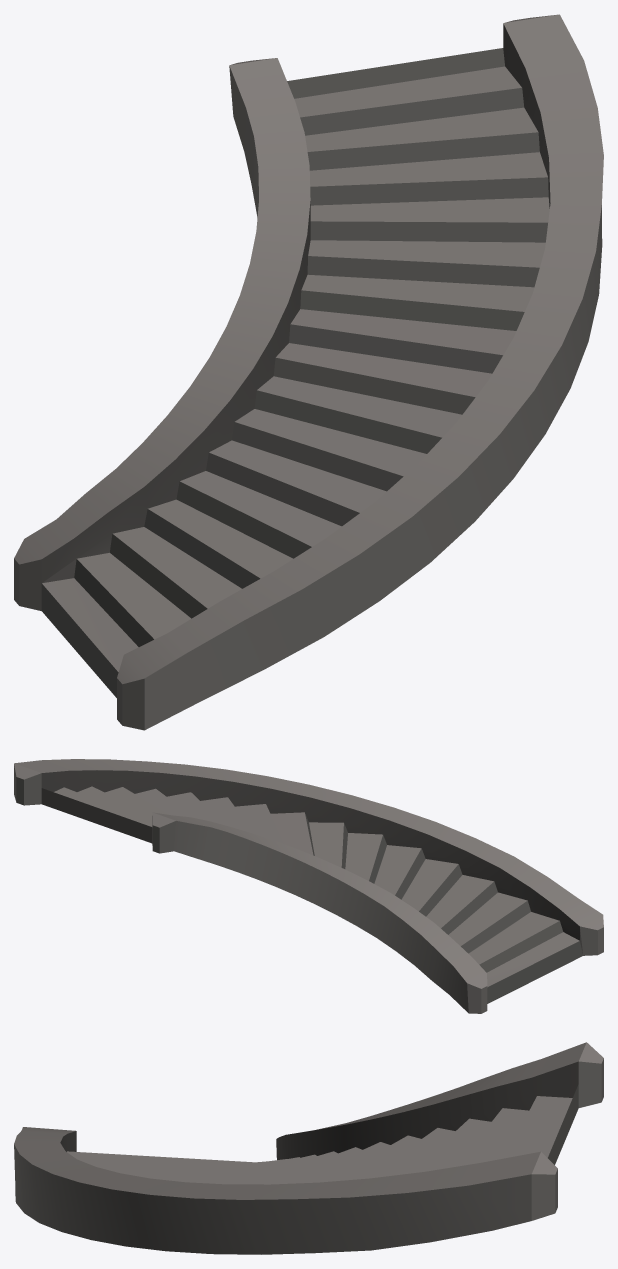
The model's file is SD_Env_Stairs_Spiral_01.fbx.
3 views of the same model, one above another, from view 1: azimuth 30°, elevation 25°; view 2: azimuth 150°, elevation 25°; view 3: azimuth 270°, elevation 25° (orthographic). The views are drawn at different scales.
Visible parts, largest first — view 1: SD_Env_Stairs_Spiral_01; view 2: SD_Env_Stairs_Spiral_01; view 3: SD_Env_Stairs_Spiral_01.
Boxes of the visible parts, x1=… form: SD_Env_Stairs_Spiral_01: x1=14, y1=14, x2=603, y2=730; SD_Env_Stairs_Spiral_01: x1=14, y1=759, x2=603, y2=1013; SD_Env_Stairs_Spiral_01: x1=14, y1=1042, x2=603, y2=1254.
Bounding box in the file's own units: 11.78 × 5.39 × 9.41.
Materials: 1 (1 with a texture image).
